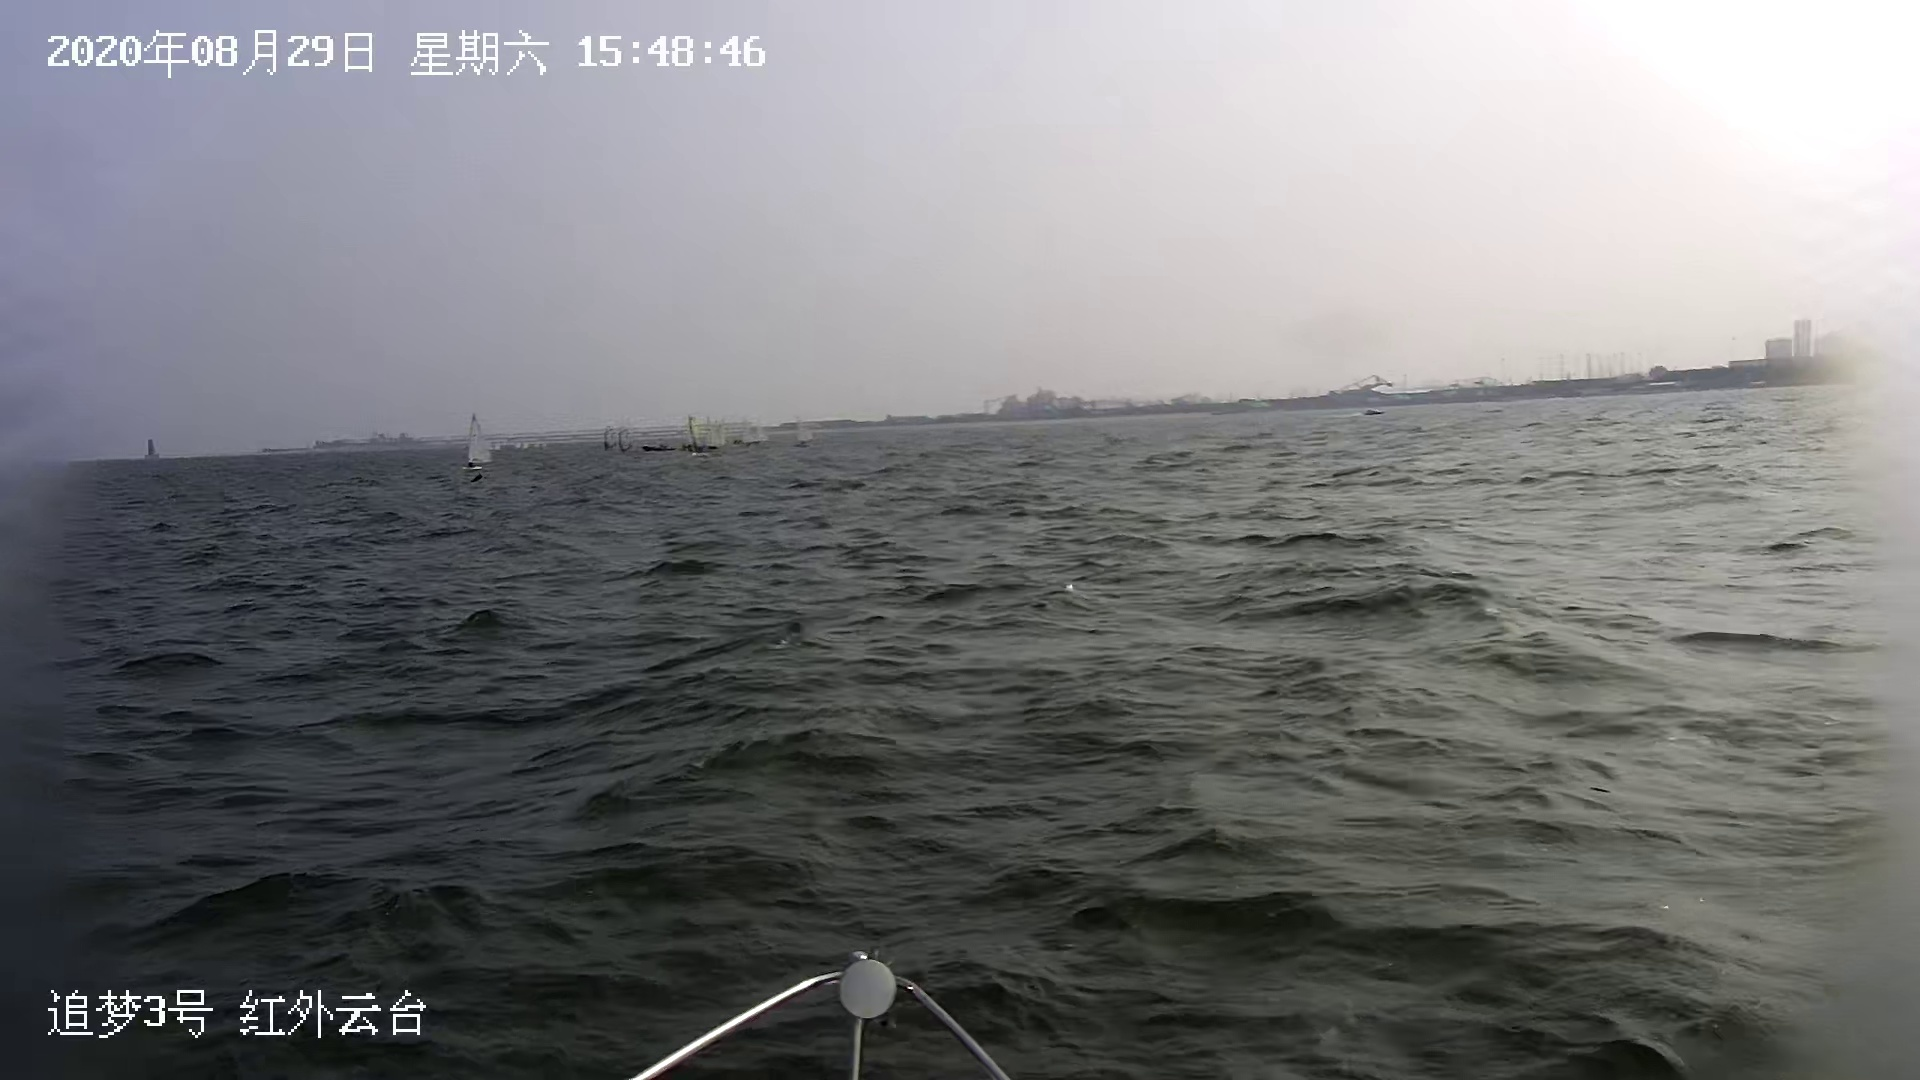barrier: (463, 411, 495, 472), (684, 415, 725, 456), (793, 414, 818, 444), (142, 436, 164, 465), (756, 415, 773, 448), (738, 413, 754, 448), (642, 438, 675, 454), (618, 429, 634, 455), (605, 423, 616, 452)
coast: (256, 305, 1883, 463)
